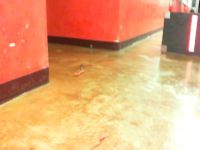switch: (188, 15, 198, 53)
